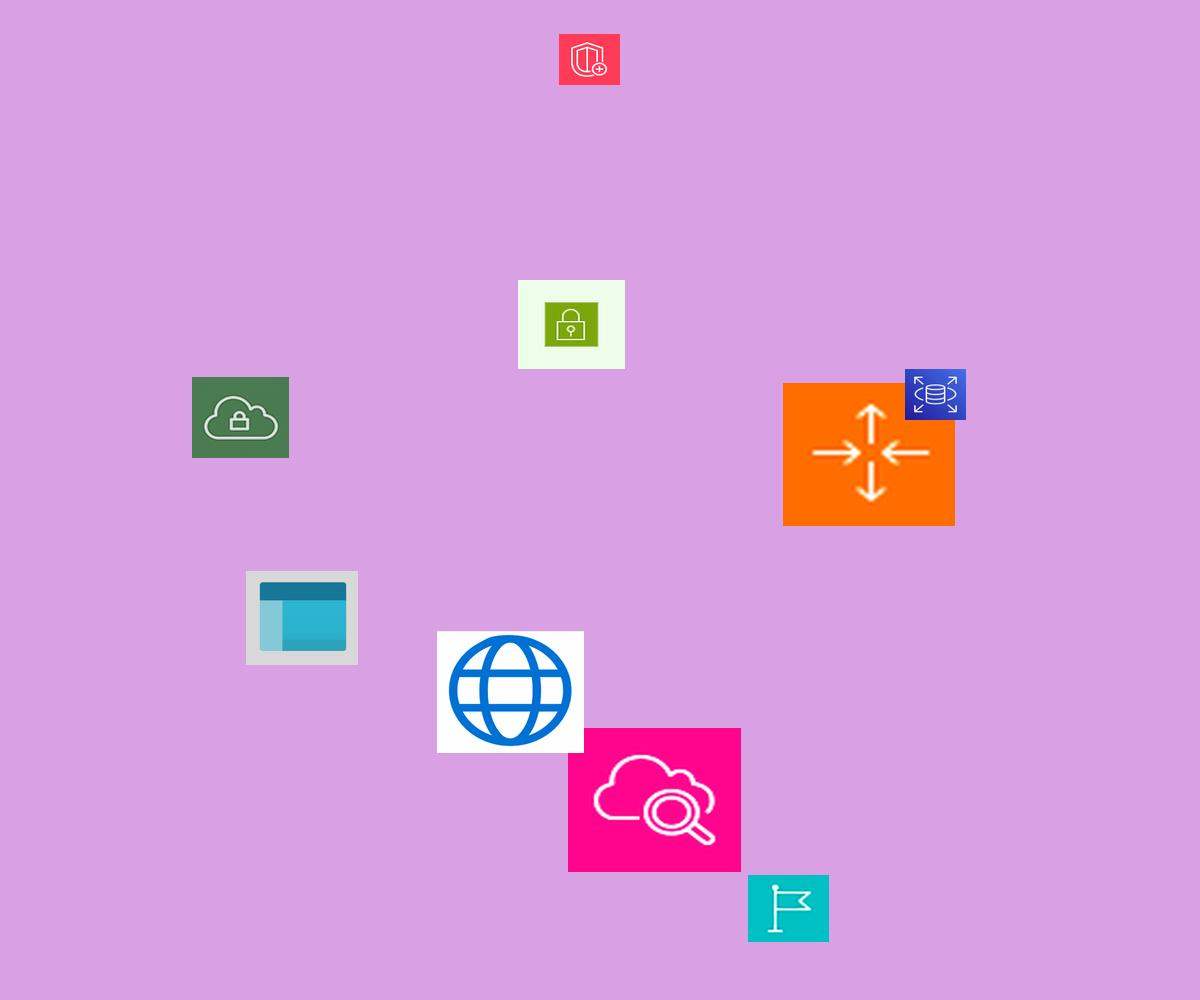AWS-CloudWatch: (568, 728, 741, 872)
AWS-Private_vpc: (192, 377, 289, 458)
AWS-Public-subnet: (518, 280, 625, 369)
AWS-RDS: (905, 369, 966, 420)
AWS-Region: (748, 875, 829, 942)
AWS-Scaling-group: (783, 383, 955, 526)
AWS-Shield: (559, 34, 620, 85)
Azure_http: (437, 631, 584, 753)
Azure_management-portal: (246, 571, 358, 665)
